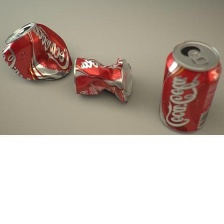can: (155, 38, 224, 138), (0, 15, 74, 90), (70, 54, 143, 105)
